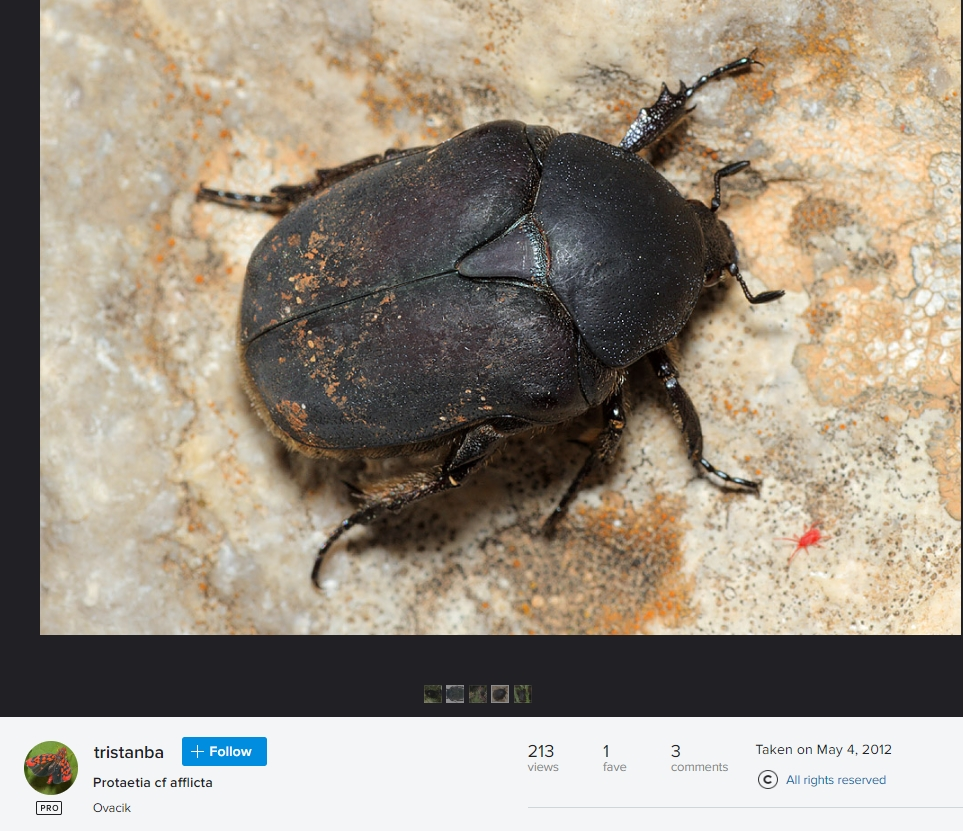Protaetia_afflicta: (184, 38, 786, 597)
